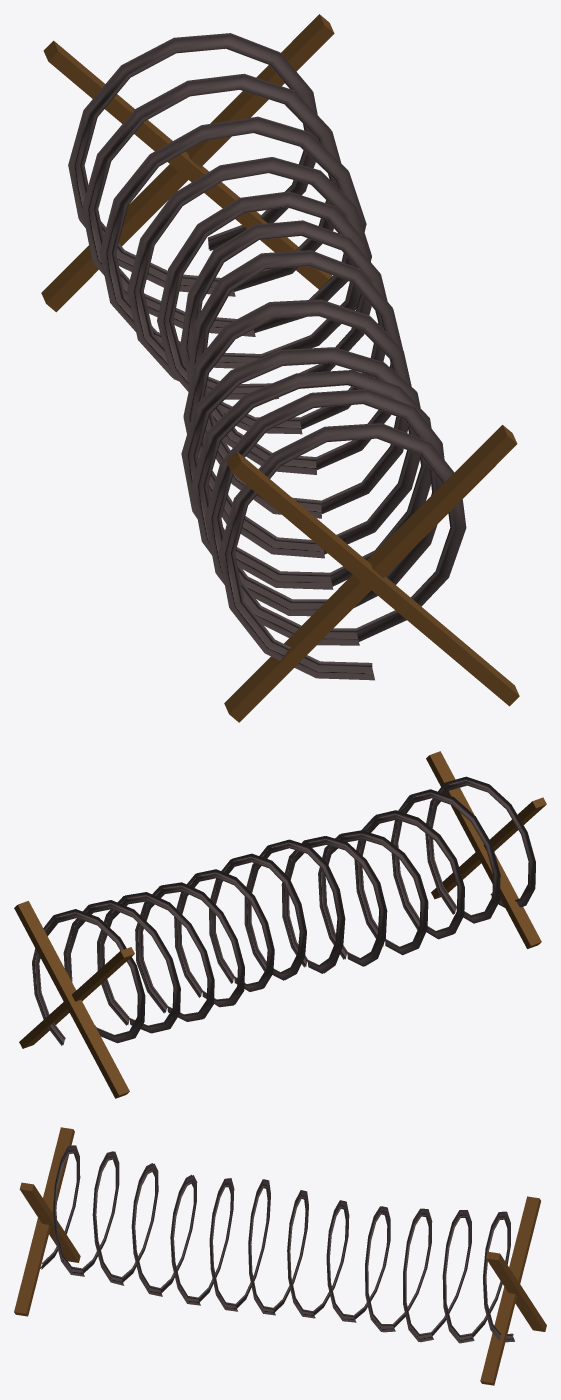
The model's file is Sandbags_Wire.fbx.
3 views of the same model, one above another, from view 1: azimuth 30°, elevation 25°; view 2: azimuth 150°, elevation 25°; view 3: azimuth 270°, elevation 25° (orthographic). The views are drawn at different scales.
Parts seen in each view (by area): view 1: Sandbags Wire; view 2: Sandbags Wire; view 3: Sandbags Wire.
Boxes of the visible parts, left/top/right/bottom form: Sandbags Wire: left=41, top=14, right=519, bottom=722; Sandbags Wire: left=14, top=751, right=546, bottom=1098; Sandbags Wire: left=14, top=1127, right=546, bottom=1385.
Size of the model in its own units: 4.25 by 2.11 by 7.35.
